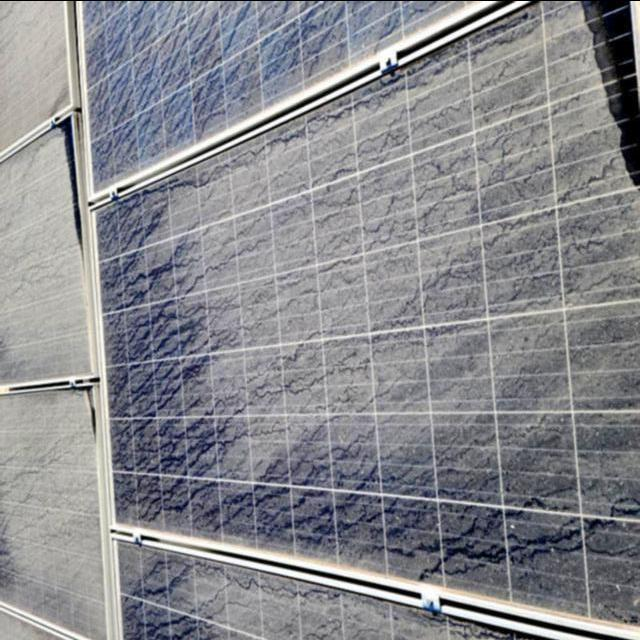soiled: (102, 0, 640, 629), (1, 0, 86, 639)
